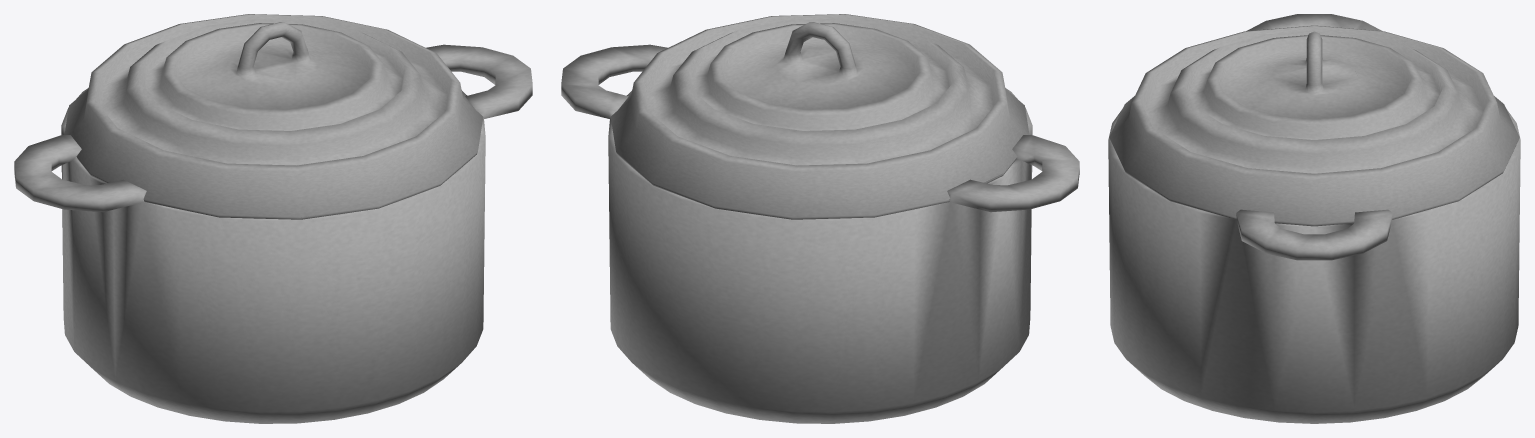
The model's file is cookingpot.glb.
3 renders of one model, left to right at view 1: azimuth 30°, elevation 25°; view 2: azimuth 150°, elevation 25°; view 3: azimuth 270°, elevation 25°, orthographic. The views are drawn at different scales.
Visible parts, largest first — view 1: cookingpot, cookingpotpot; view 2: cookingpot, cookingpotpot; view 3: cookingpot, cookingpotpot.
Boxes of the visible parts, bbox=[...] form: cookingpot: bbox=[14, 44, 532, 423]; cookingpotpot: bbox=[64, 14, 483, 219]; cookingpot: bbox=[561, 44, 1079, 423]; cookingpotpot: bbox=[610, 14, 1029, 219]; cookingpot: bbox=[1108, 14, 1520, 423]; cookingpotpot: bbox=[1109, 25, 1519, 226].
Size of the model in its own units: 5.18 by 3.19 by 3.84.
Materials: 1 (1 with a texture image).
